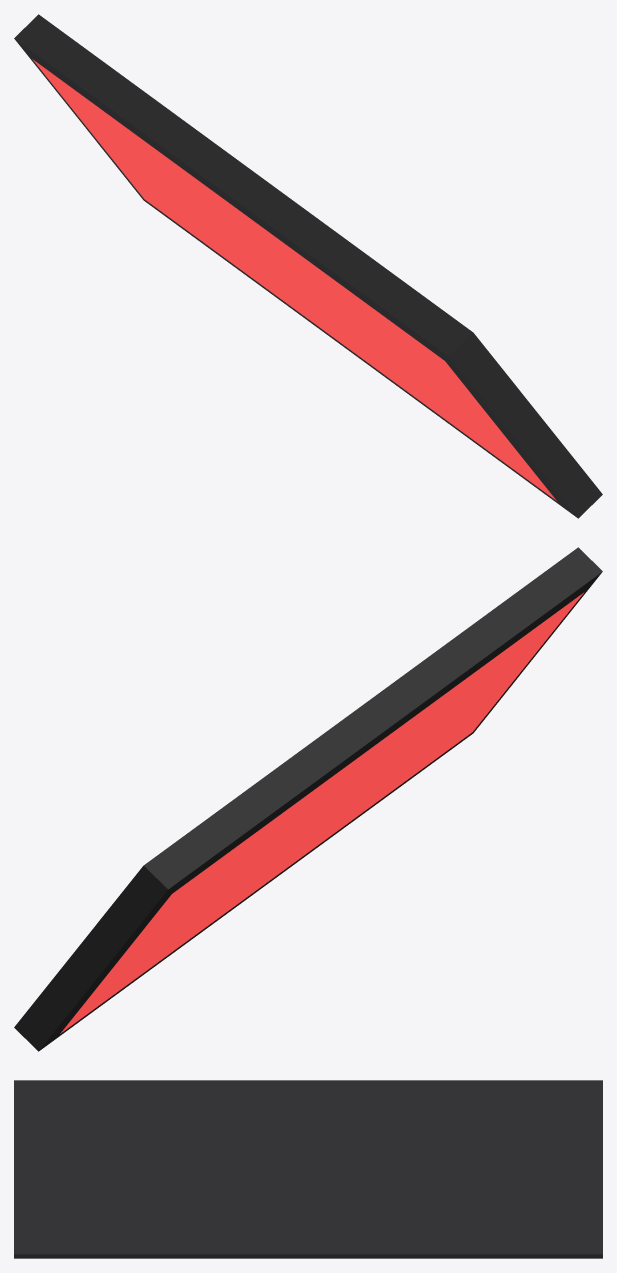
Rendered from SM_Forward_Display_B.fbx.
The picture shows the model from 3 angles, top to bottom: view 1: azimuth 30°, elevation 25°; view 2: azimuth 150°, elevation 25°; view 3: azimuth 270°, elevation 25°; orthographic projection. The views are drawn at different scales.
Parts seen in each view (by area): view 1: Forward_Display_B; view 2: Forward_Display_B; view 3: Forward_Display_B.
Part boxes in pixels (x1=…): Forward_Display_B: x1=14, y1=14, x2=602, y2=518; Forward_Display_B: x1=14, y1=547, x2=602, y2=1051; Forward_Display_B: x1=14, y1=1080, x2=602, y2=1258.
Size of the model in its own units: 0.2 by 0.041 by 0.0537.
